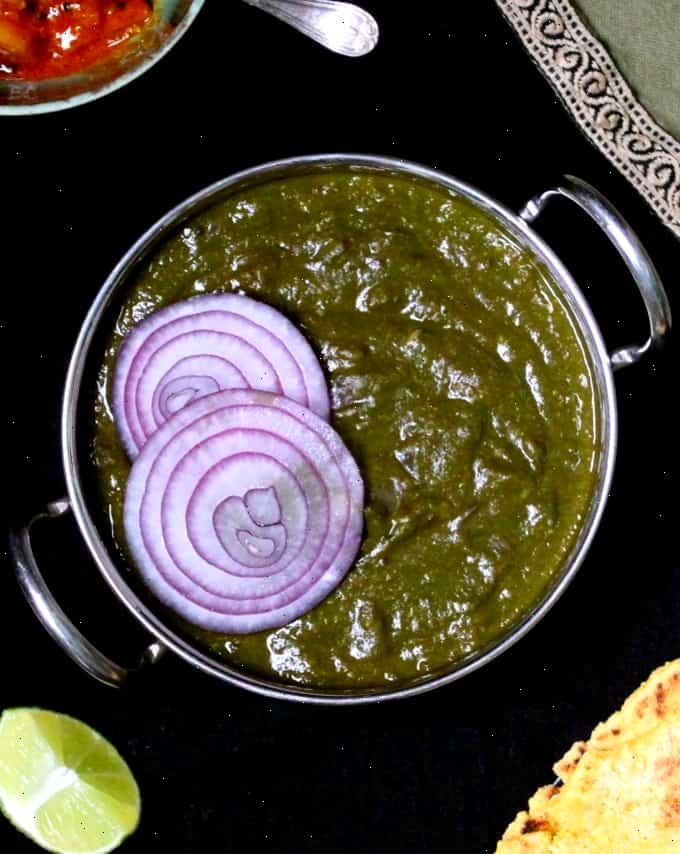saag: (90, 170, 607, 696)
